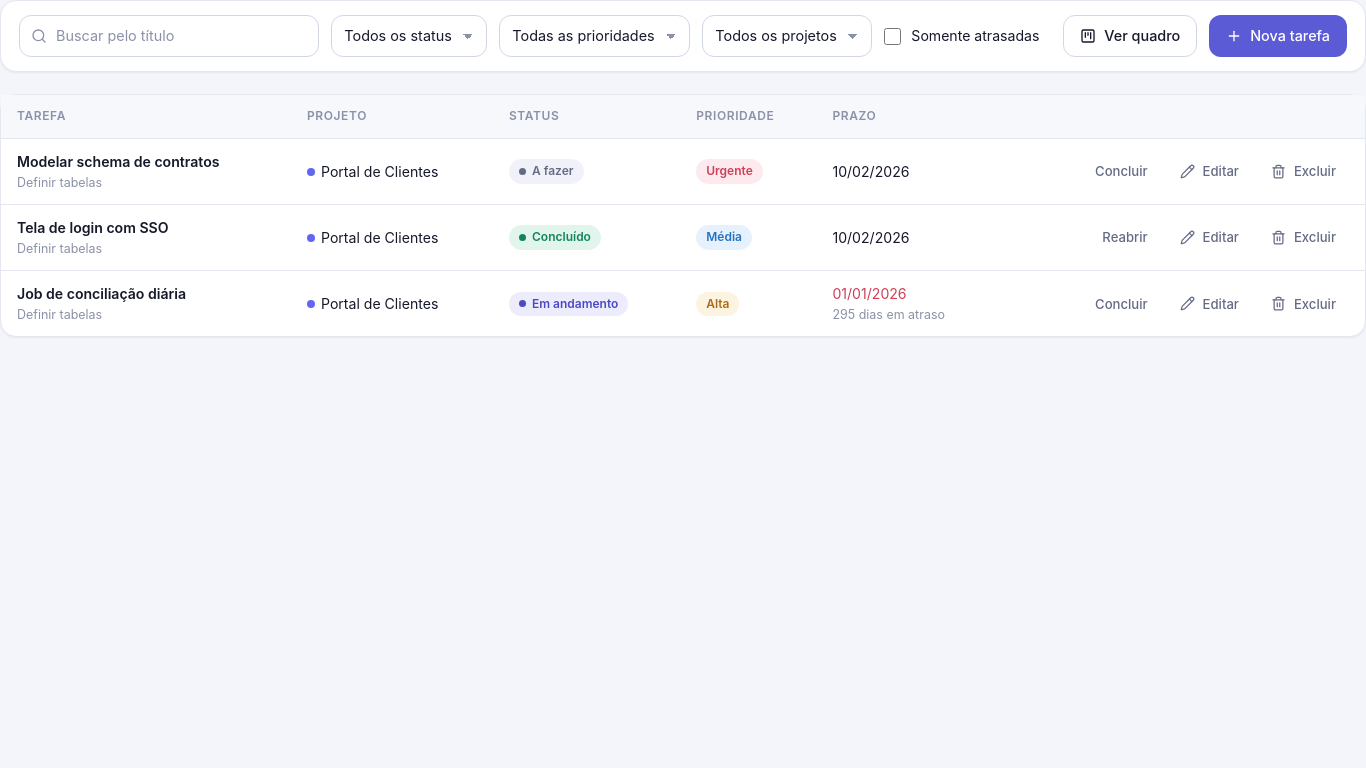
TasksPage › valida o título obrigatório
Expected: the text "Modelar schema de contratos" is shown, [17,153,220,170]
Click the button "Nova tarefa": (1278,36) [1209,15,1347,57]
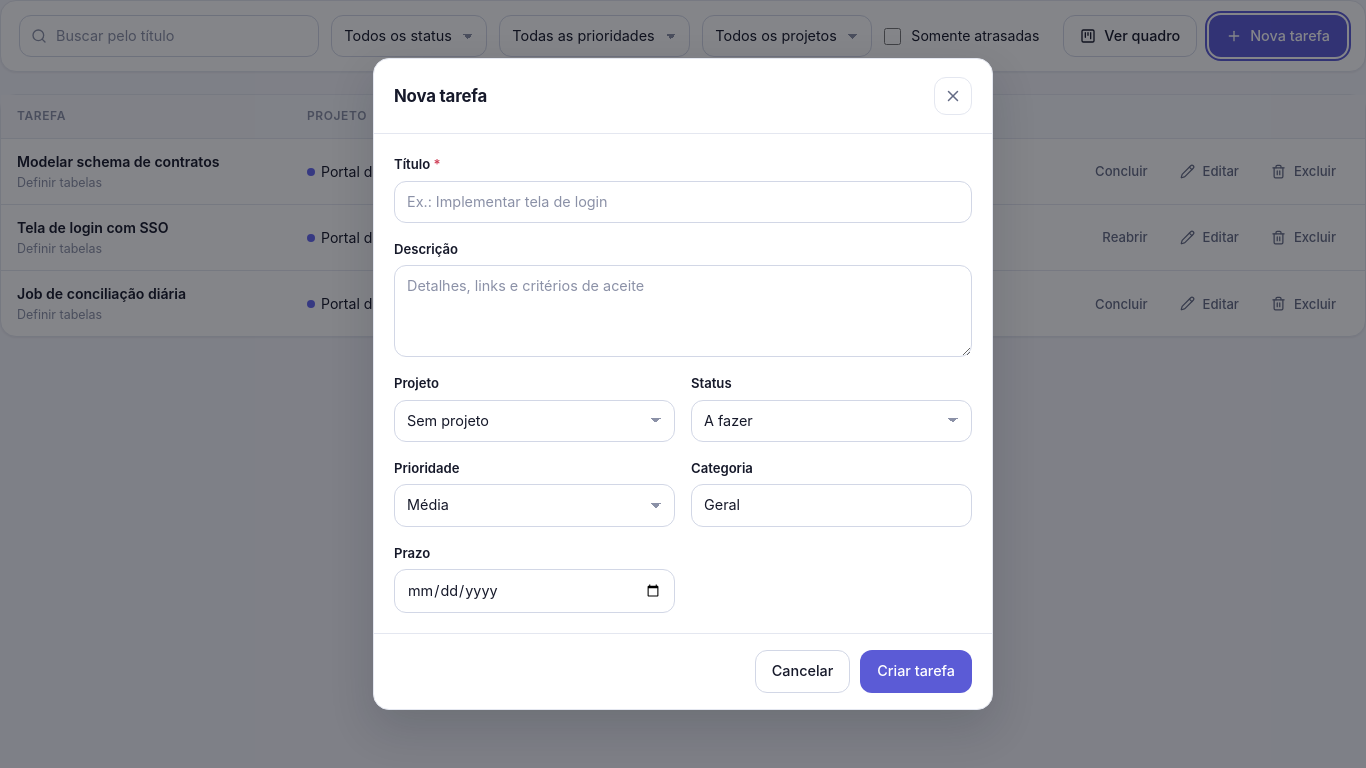
Click the button "Criar tarefa": (916,671) [860,650,972,693]
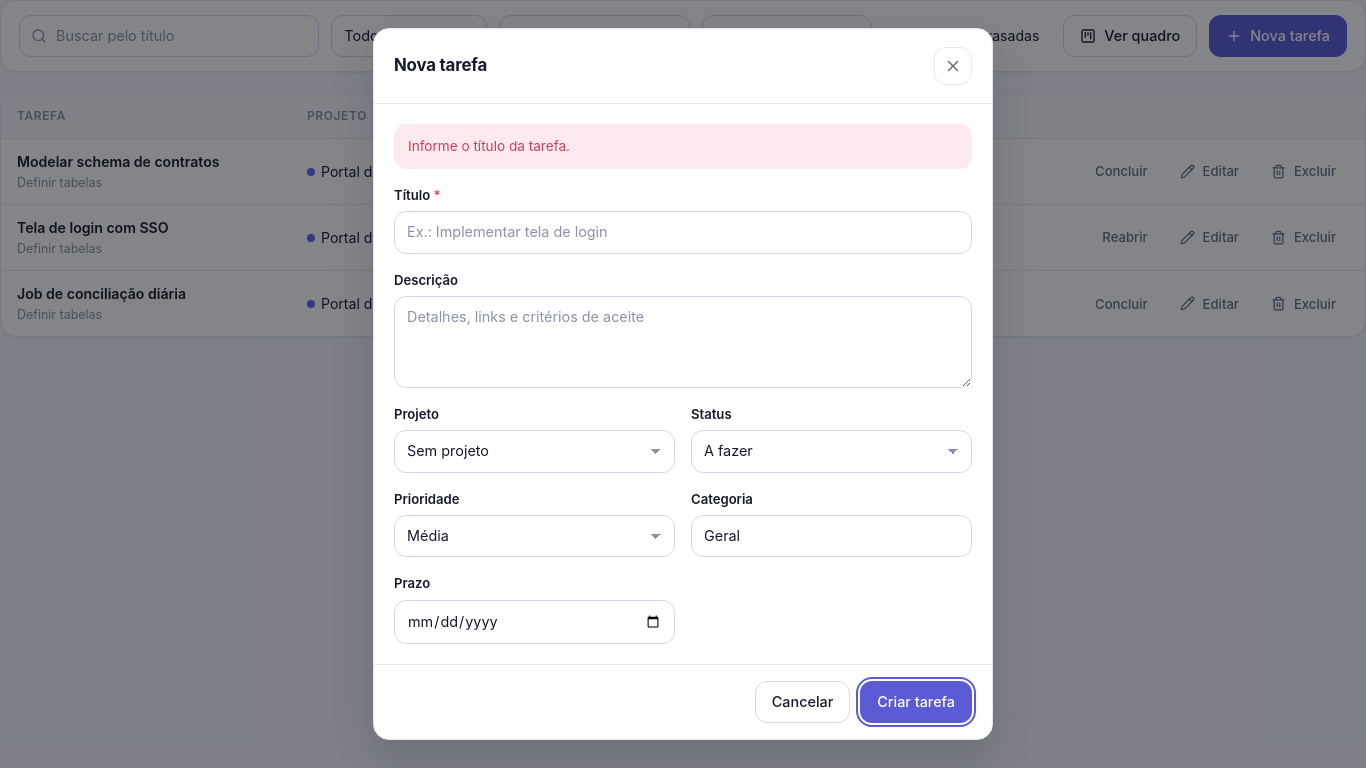
Now the text "Informe o título da tarefa." is shown, box [394,124,972,169]
